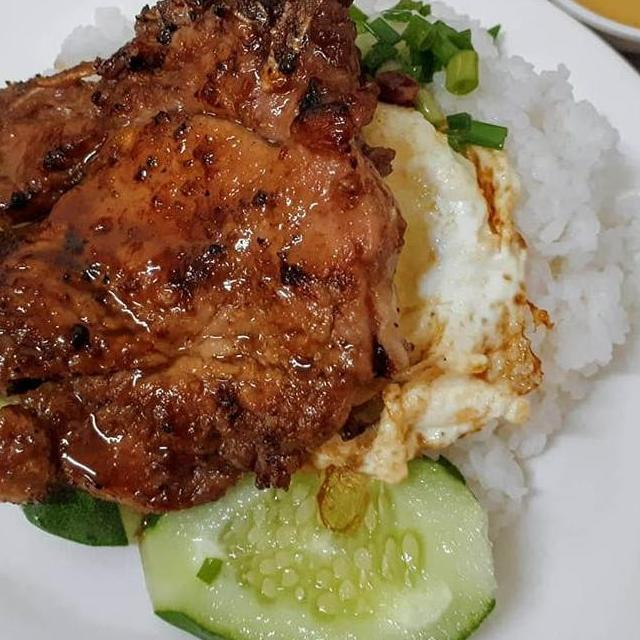com: (411, 124, 640, 544), (340, 0, 623, 152)
suon: (0, 0, 411, 516)
trung: (294, 74, 558, 490)
